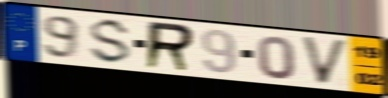0: (255, 33, 298, 82)
9: (200, 28, 239, 76), (41, 14, 82, 59)
R: (143, 19, 197, 74)
S: (87, 17, 134, 66)
V: (299, 34, 351, 87)
